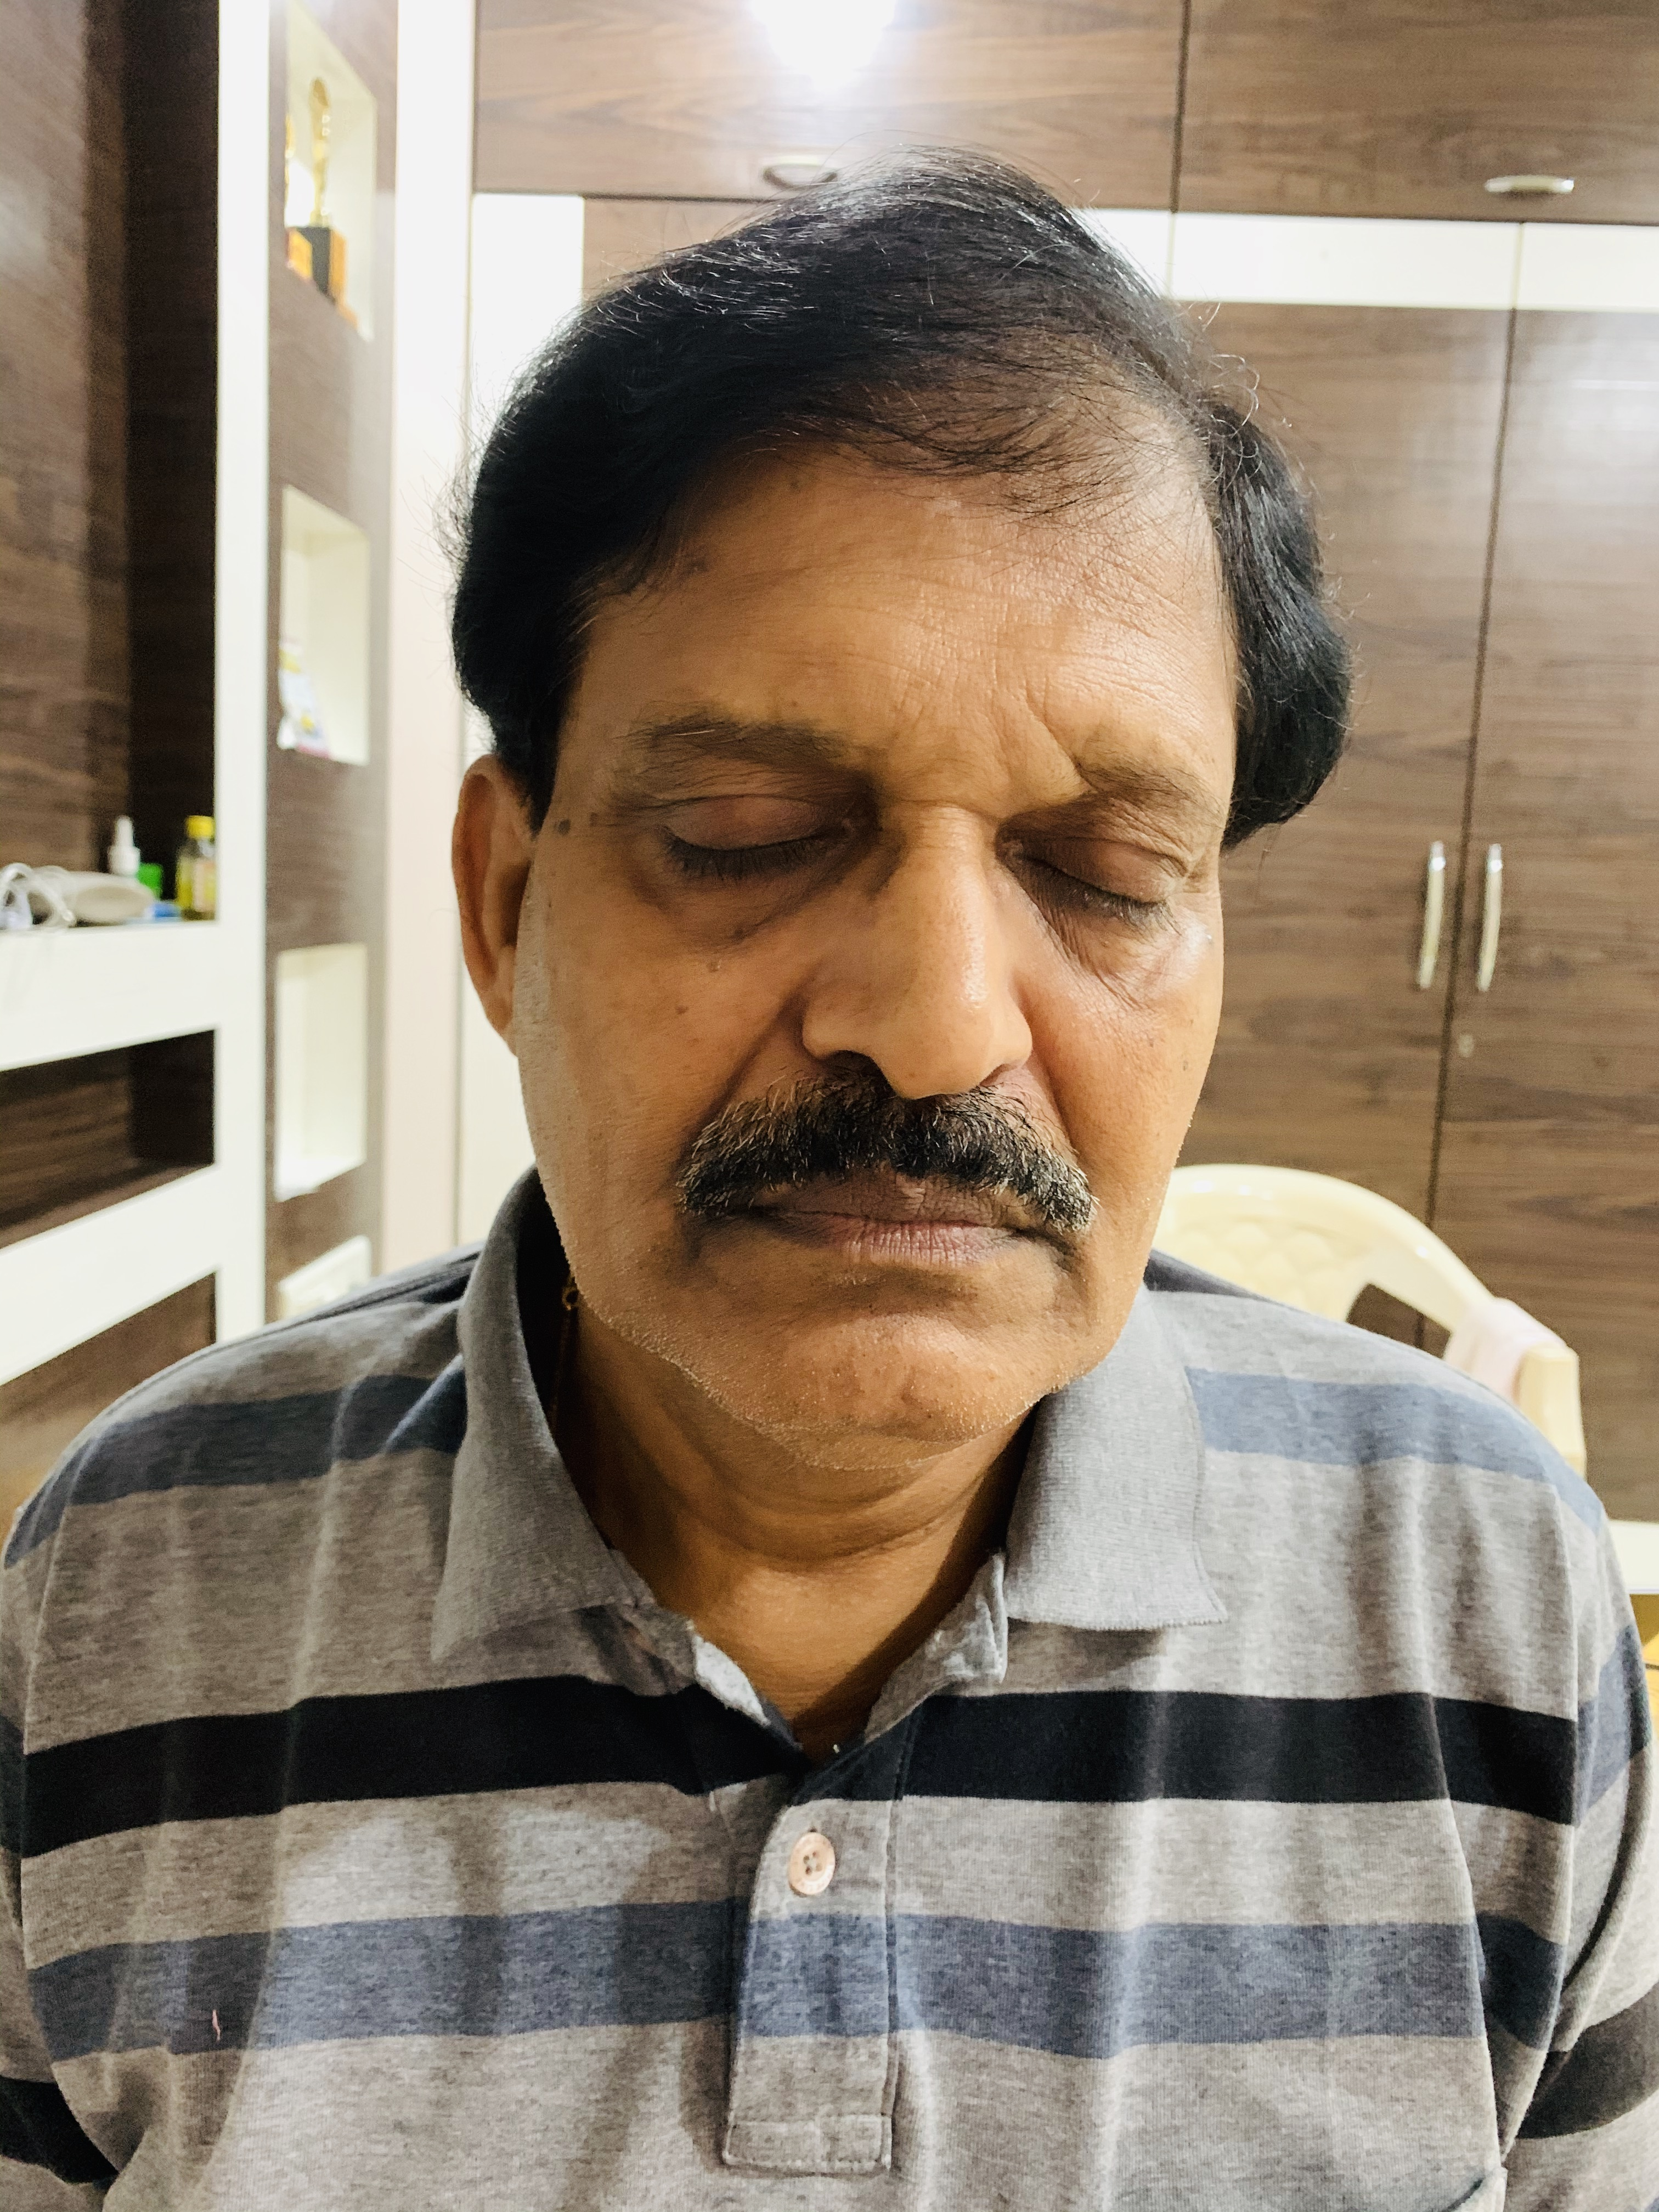Sleeping: (589, 735, 1227, 961)
